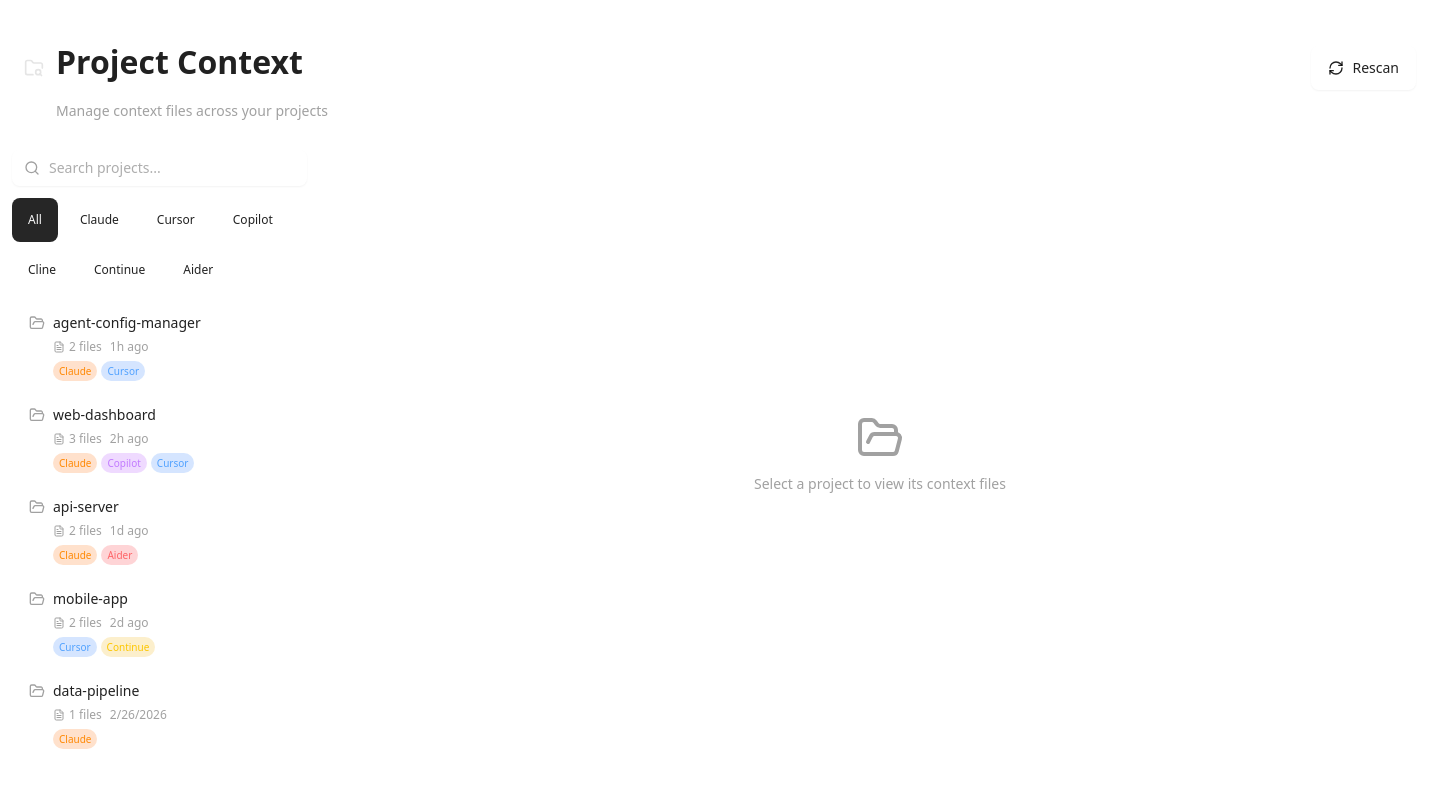
ProjectContextPage › should open editor when Edit is clicked
This screenshot has width=1440, height=810.
Click the text "agent-config-manager" at (127, 323), box [53, 313, 201, 333]
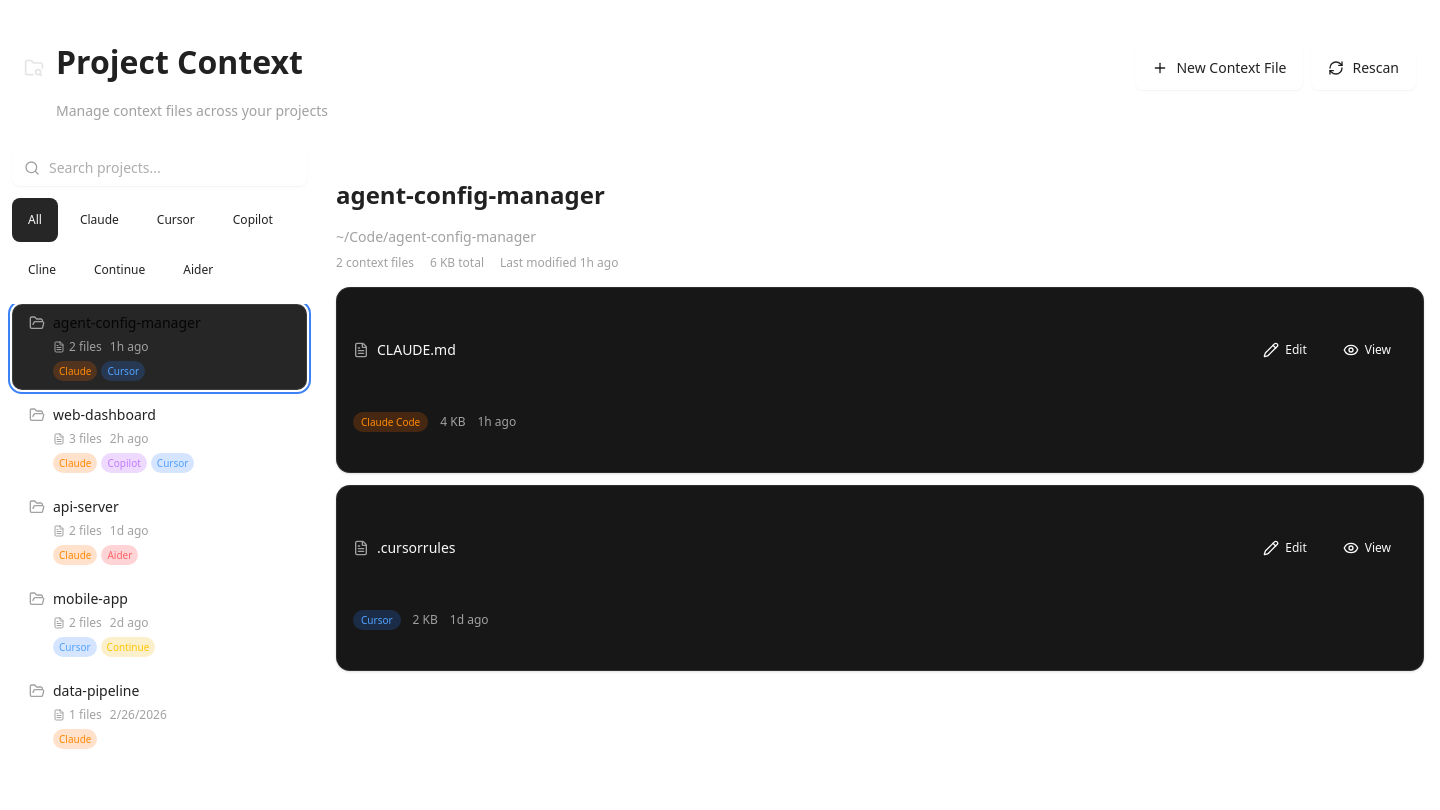
Now the button named "Edit CLAUDE.md" is shown
Click the button named "Edit CLAUDE.md" at (1285, 350), box [1247, 328, 1323, 372]
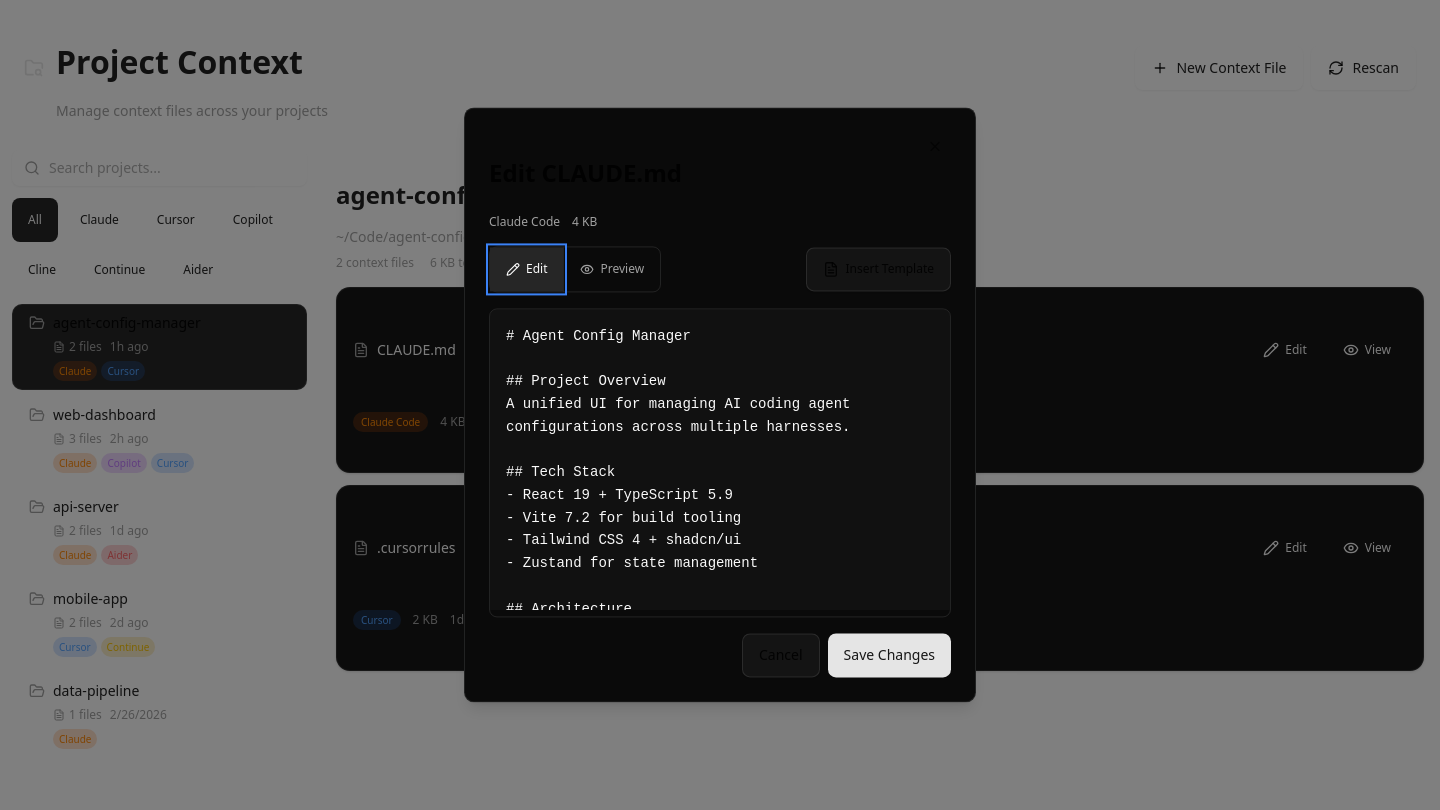
Now the text box named "File content editor" is shown, box [490, 309, 950, 609]
